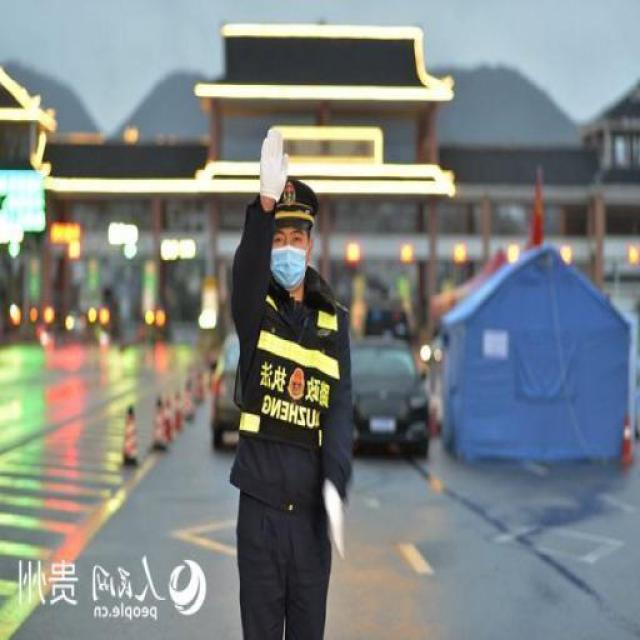face_mask: (266, 224, 312, 288)
hand_glove: (314, 474, 354, 560), (255, 129, 295, 201)
head_nohelmet: (264, 177, 314, 234)
person: (222, 125, 356, 640)
vest: (231, 268, 347, 452)
